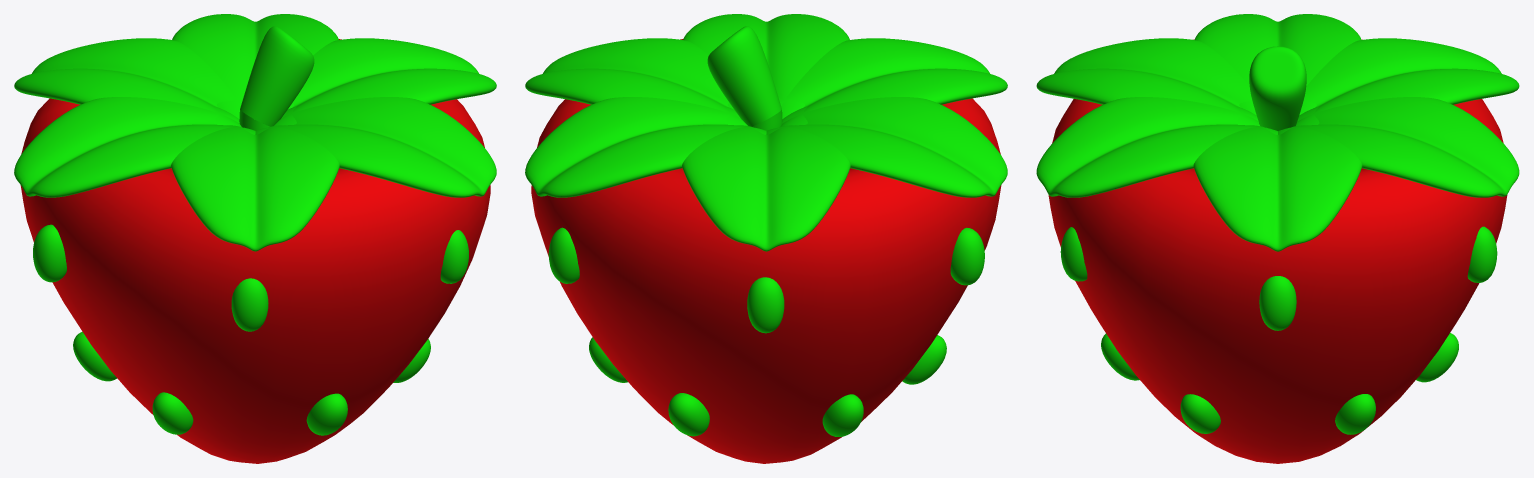
File: stoberi.fbx
3 renders of one model, left to right at view 1: azimuth 30°, elevation 25°; view 2: azimuth 150°, elevation 25°; view 3: azimuth 270°, elevation 25°, orthographic.
Parts seen in each view (by area): view 1: Strobery; view 2: Strobery; view 3: Strobery.
Part boxes in pixels (<box>): Strobery: <box>14,14,496,463</box>; Strobery: <box>525,14,1007,463</box>; Strobery: <box>1036,14,1519,463</box>.
Bounding box in the file's own units: 710 × 622 × 649.
